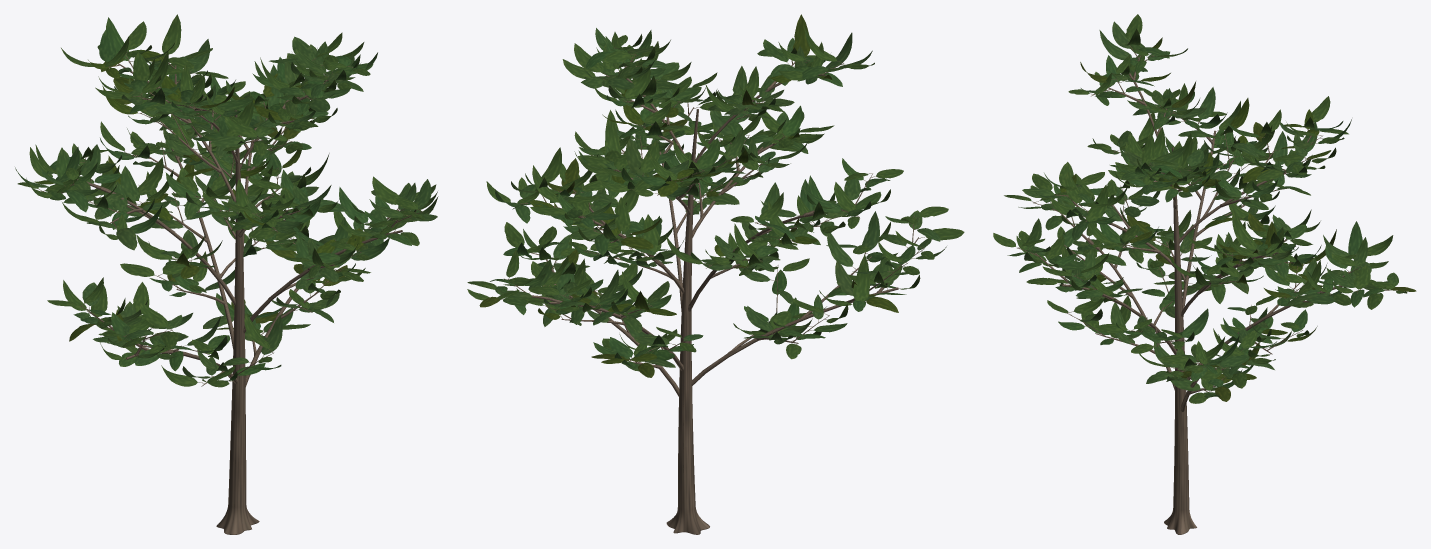
The model's file is n-tree-1.glb.
3 views of the same model, side by side, from view 1: azimuth 30°, elevation 25°; view 2: azimuth 150°, elevation 25°; view 3: azimuth 270°, elevation 25° (orthographic). The views are drawn at different scales.
Visible parts, largest first — view 1: Foliage, Bark; view 2: Foliage, Bark; view 3: Foliage, Bark.
Boxes of the visible parts, x1,y1,x2,y2 form: Foliage: (15, 14, 438, 387); Bark: (39, 51, 422, 534); Foliage: (467, 14, 964, 377); Bark: (500, 47, 924, 534); Foliage: (993, 14, 1416, 403); Bark: (1017, 42, 1390, 534).
Bounding box in the file's own units: 1.76 × 2.2 × 1.85.
2 materials, 2 textured.
